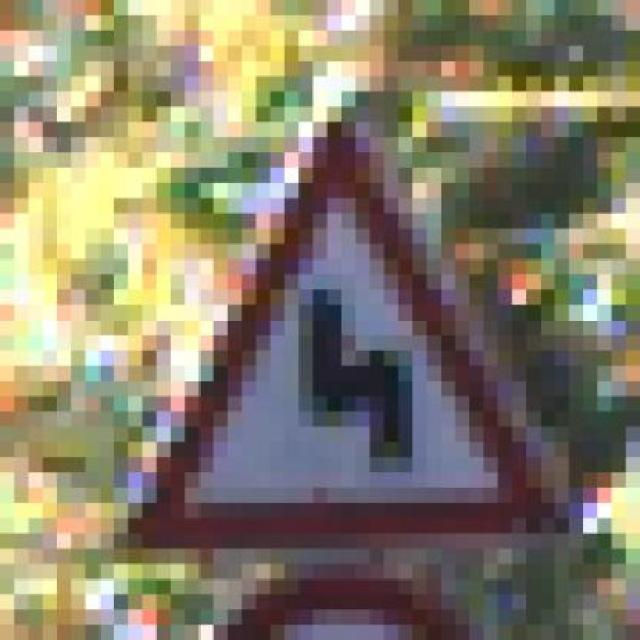Left Zig Zag Traffic: (100, 106, 568, 534)
